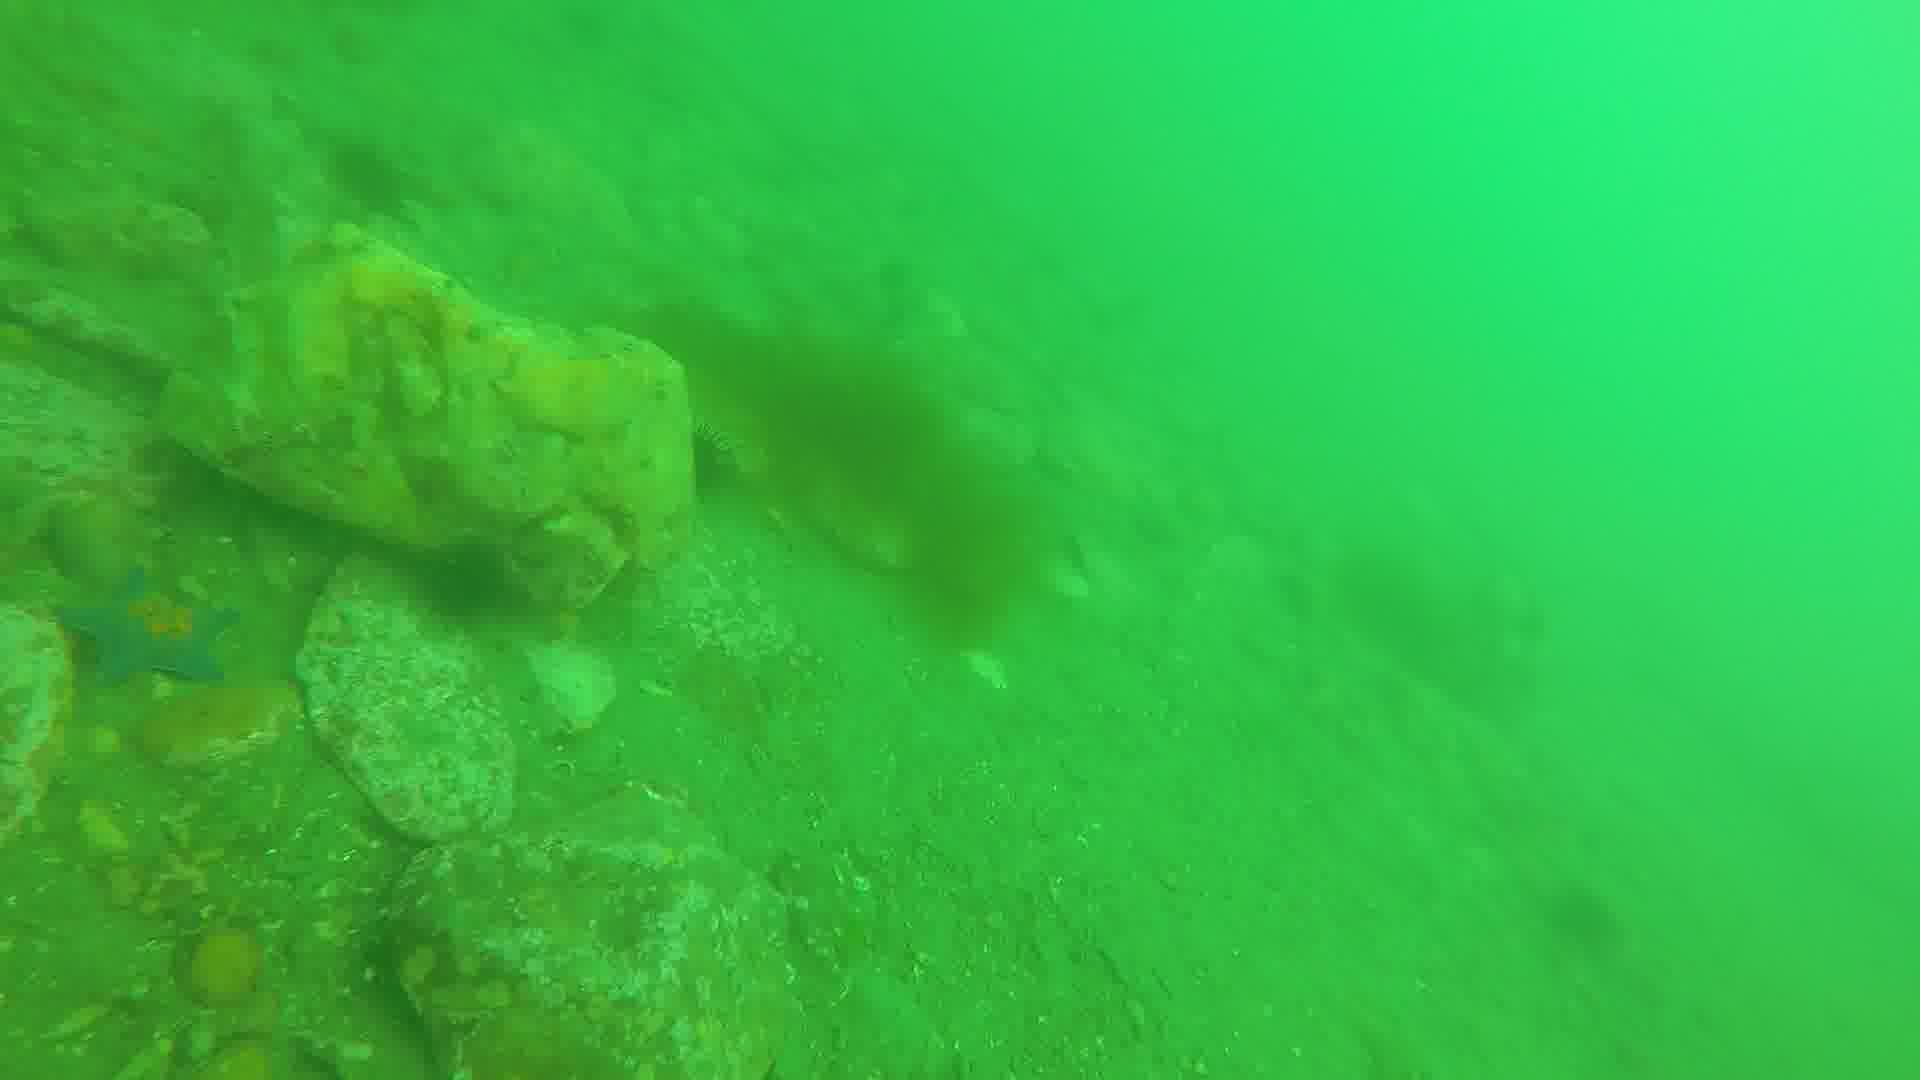echinus: (430, 541, 524, 625), (666, 435, 727, 495)
starfish: (61, 570, 241, 690)
